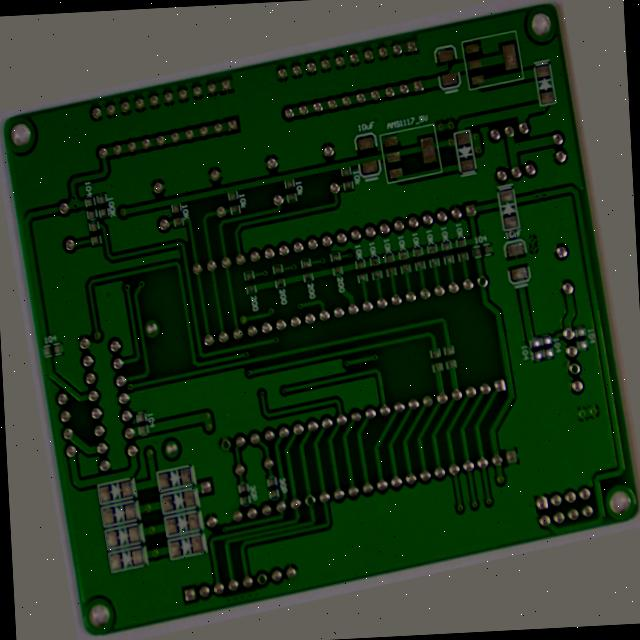missing_hole: (582, 417, 601, 438), (194, 433, 210, 456), (216, 598, 234, 618), (279, 516, 296, 537), (494, 299, 510, 318)
